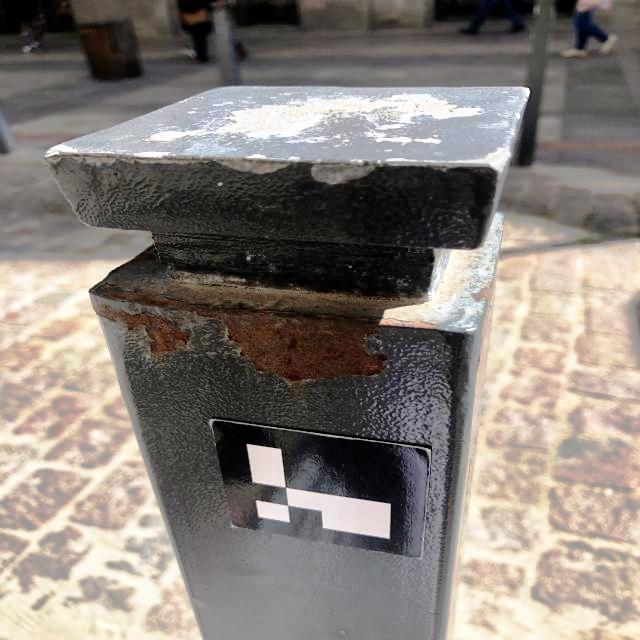Corrosion: (94, 282, 441, 381), (90, 295, 188, 354), (470, 284, 492, 302), (131, 247, 153, 262), (478, 357, 480, 368)
